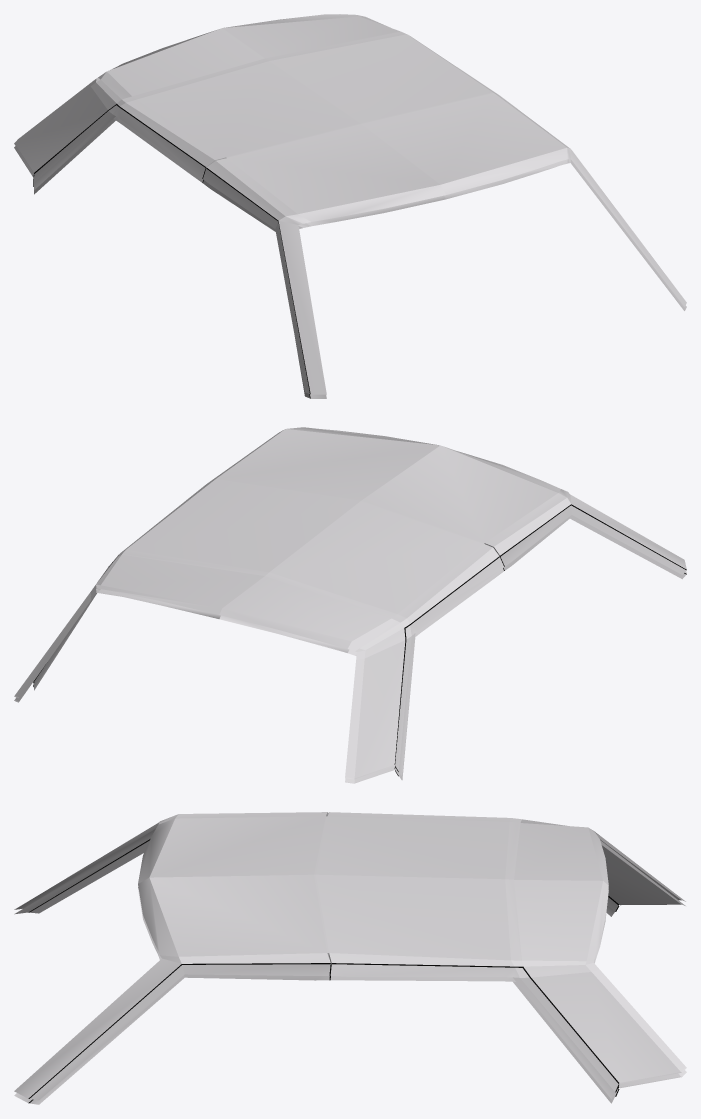
The model's file is Par_Car_4.fbx.
The picture shows the model from 3 angles, top to bottom: view 1: azimuth 30°, elevation 25°; view 2: azimuth 150°, elevation 25°; view 3: azimuth 270°, elevation 25°; orthographic projection. The views are drawn at different scales.
Parts seen in each view (by area): view 1: Par_Car_4; view 2: Par_Car_4; view 3: Par_Car_4.
Part boxes in pixels (x1,y1,x2,y2): Par_Car_4: [14, 14, 686, 398]; Par_Car_4: [14, 427, 686, 783]; Par_Car_4: [14, 812, 686, 1104].
Bounding box in the file's own units: 93.09 × 30.8 × 138.
Materials: 1 (1 with a texture image).
